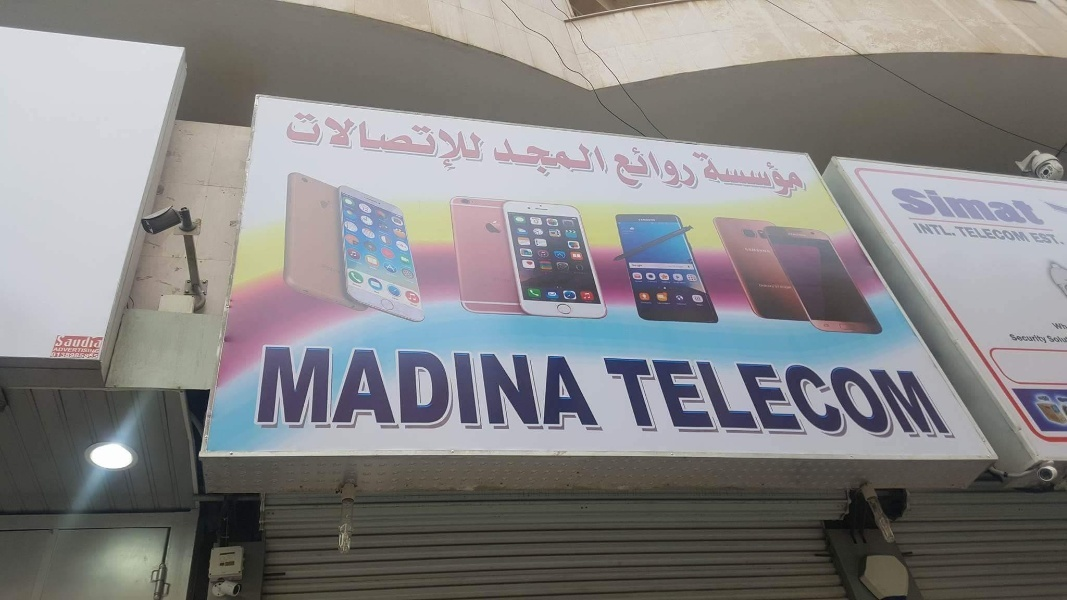text: (273, 345, 288, 433), (289, 345, 304, 433), (305, 345, 320, 433), (321, 345, 336, 433), (337, 345, 352, 433), (353, 345, 368, 433), (369, 345, 384, 433), (385, 345, 400, 433), (401, 345, 416, 433), (417, 345, 432, 433), (433, 345, 448, 433), (449, 345, 464, 433), (465, 345, 480, 433), (481, 345, 496, 433), (497, 345, 512, 433), (513, 345, 528, 433), (529, 345, 544, 433), (545, 345, 560, 433), (561, 345, 576, 433), (577, 345, 592, 433), (609, 354, 624, 438), (625, 354, 640, 438), (641, 354, 656, 438), (657, 354, 672, 438), (673, 354, 688, 438), (689, 354, 704, 438), (705, 354, 720, 438), (721, 354, 736, 438), (737, 354, 752, 438), (753, 354, 768, 438), (769, 354, 784, 438), (785, 354, 800, 438), (801, 354, 816, 438), (817, 354, 832, 438), (833, 354, 848, 438), (849, 354, 864, 438), (865, 354, 880, 438), (881, 354, 896, 438), (897, 354, 912, 438), (913, 354, 928, 438), (929, 354, 944, 438), (289, 109, 304, 174), (305, 109, 320, 174), (321, 109, 336, 174), (337, 109, 352, 174), (353, 109, 368, 174), (369, 109, 384, 174), (385, 109, 400, 174), (401, 109, 416, 174), (417, 109, 432, 174), (433, 109, 448, 174), (449, 109, 464, 174), (465, 109, 480, 174), (593, 345, 604, 433), (945, 354, 955, 438), (705, 151, 720, 201), (721, 151, 736, 201), (737, 151, 752, 201), (753, 151, 768, 201), (769, 151, 784, 201), (785, 151, 800, 201), (625, 145, 640, 191), (641, 145, 656, 191), (657, 145, 672, 191), (673, 145, 688, 191), (600, 354, 608, 438), (897, 185, 912, 228), (913, 185, 928, 228), (929, 185, 944, 228), (945, 185, 960, 228), (961, 185, 976, 228), (977, 185, 992, 228), (993, 185, 1008, 228), (1009, 185, 1024, 228), (1025, 185, 1040, 228), (265, 345, 272, 433), (692, 151, 704, 201), (497, 139, 512, 177), (513, 139, 528, 177), (529, 139, 544, 177), (545, 139, 560, 177), (561, 139, 576, 177), (577, 139, 592, 177), (593, 139, 608, 177), (689, 145, 701, 191), (613, 145, 624, 191), (481, 109, 488, 174), (801, 151, 810, 201), (887, 185, 896, 228), (1041, 185, 1050, 228), (961, 225, 976, 244), (977, 225, 992, 244), (993, 225, 1008, 244), (1009, 225, 1024, 244), (1041, 231, 1056, 247), (913, 222, 928, 237), (929, 222, 944, 237), (945, 222, 958, 237), (285, 109, 288, 174), (65, 336, 80, 349), (81, 336, 96, 349), (1028, 231, 1040, 247), (1057, 231, 1067, 247), (952, 225, 960, 244), (1025, 334, 1040, 344), (1010, 334, 1024, 344), (65, 351, 80, 359), (81, 351, 96, 359), (1025, 225, 1031, 244), (609, 139, 612, 177), (51, 351, 64, 359), (1041, 334, 1051, 344), (1057, 322, 1067, 332), (97, 336, 104, 349), (1057, 335, 1067, 344), (65, 348, 80, 354), (81, 348, 96, 354), (1047, 335, 1056, 344), (58, 336, 64, 349), (51, 348, 64, 354), (1051, 322, 1056, 332), (495, 139, 496, 177), (97, 351, 101, 359), (97, 348, 102, 354), (911, 222, 912, 237)
